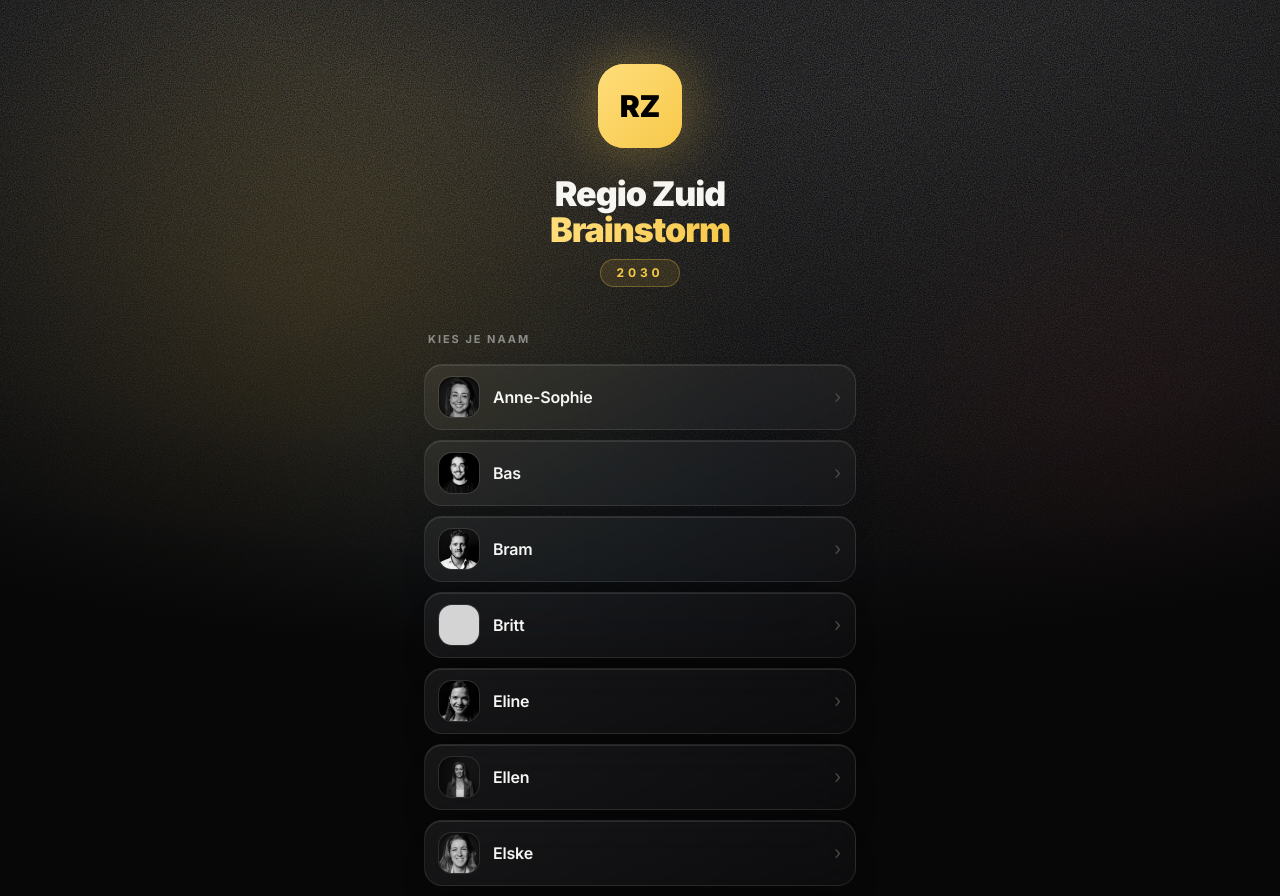
Test: App flow › selects a participant, persists it, and shows the home tab
Click the button "Bas ›": (459, 473) [424,440,856,506]
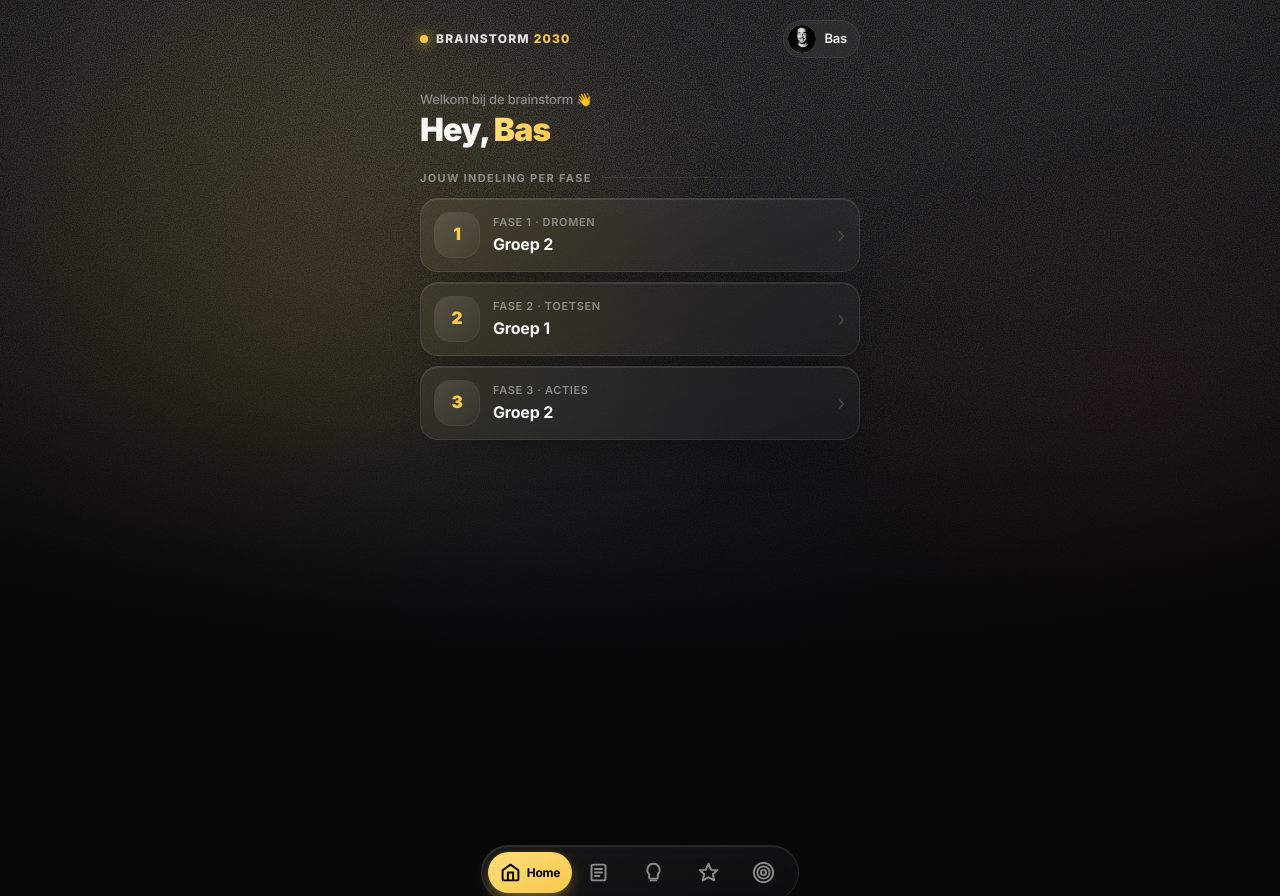
Now the text "Hey," is shown, box [420,110,488,148]
Now the text "Jouw indeling per fase" is shown, box [420,170,592,186]
Now the text "Bas" in the row of "2030" is shown, box [824,30,847,46]
